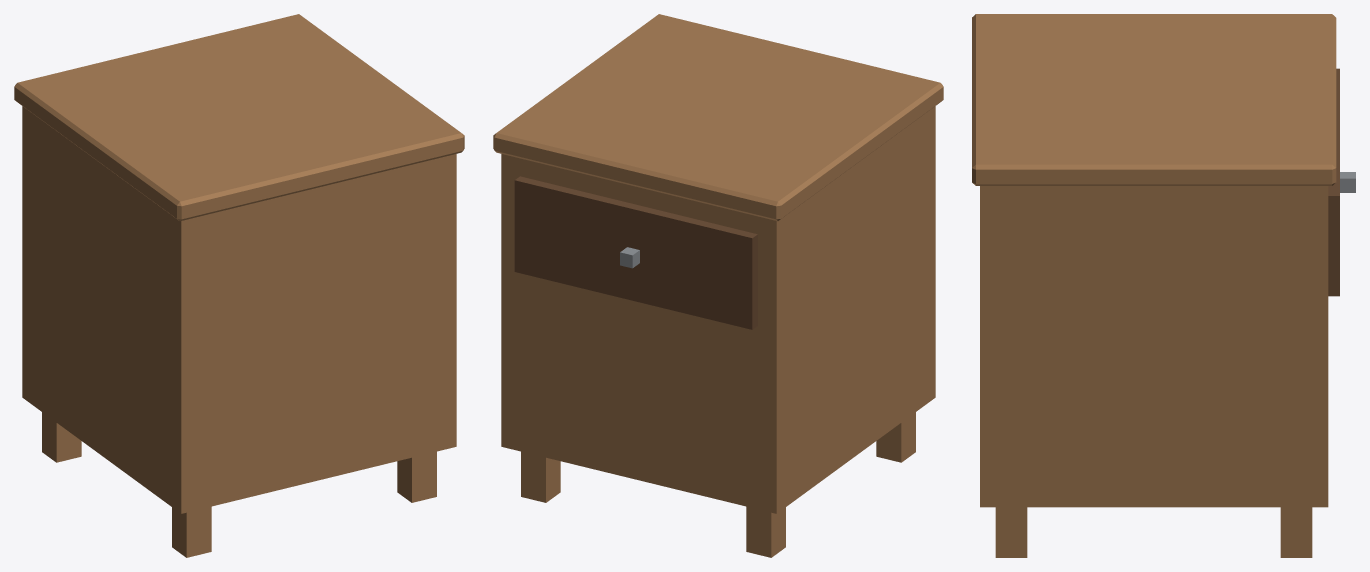
Rendered from MesaDeLuz.fbx.
3 views of the same model, side by side, from view 1: azimuth 30°, elevation 25°; view 2: azimuth 150°, elevation 25°; view 3: azimuth 270°, elevation 25° (orthographic). The views are drawn at different scales.
Visible parts, largest first — view 1: MesaDeLuz; view 2: MesaDeLuz; view 3: MesaDeLuz.
Boxes of the visible parts, x1=… form: MesaDeLuz: x1=14, y1=14, x2=464, y2=557; MesaDeLuz: x1=493, y1=14, x2=943, y2=557; MesaDeLuz: x1=972, y1=14, x2=1355, y2=557.
Size of the model in its own units: 0.46 by 0.56 by 0.485.
